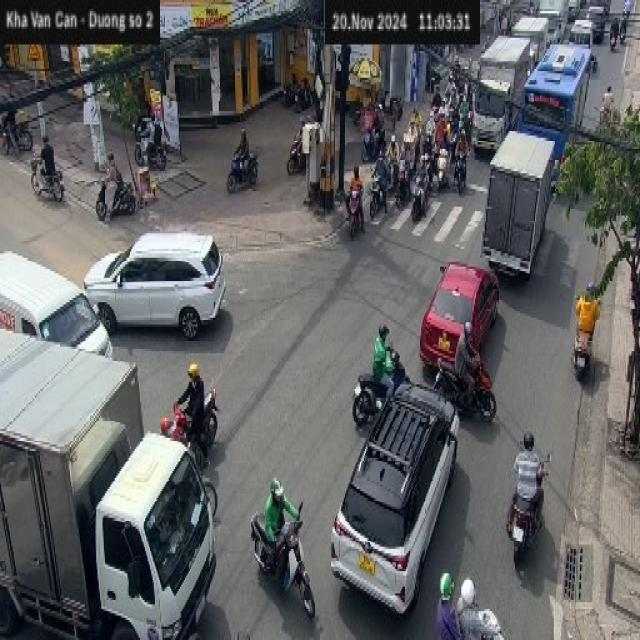car: (84, 228, 232, 338), (419, 254, 503, 373)
motorcycle: (252, 507, 318, 625), (435, 354, 503, 426), (161, 388, 221, 457), (349, 356, 411, 421), (509, 477, 543, 563), (30, 155, 69, 206), (93, 178, 135, 225), (571, 325, 598, 380), (226, 153, 260, 193), (348, 188, 367, 237)
person: (457, 569, 485, 640), (514, 429, 542, 496), (181, 362, 208, 428), (437, 569, 459, 640), (264, 476, 289, 533), (456, 319, 479, 375), (578, 282, 598, 337), (374, 319, 391, 380), (38, 132, 58, 178), (105, 147, 118, 192), (238, 123, 250, 168), (350, 165, 363, 194)
truck: (0, 300, 220, 638), (481, 123, 558, 283)
